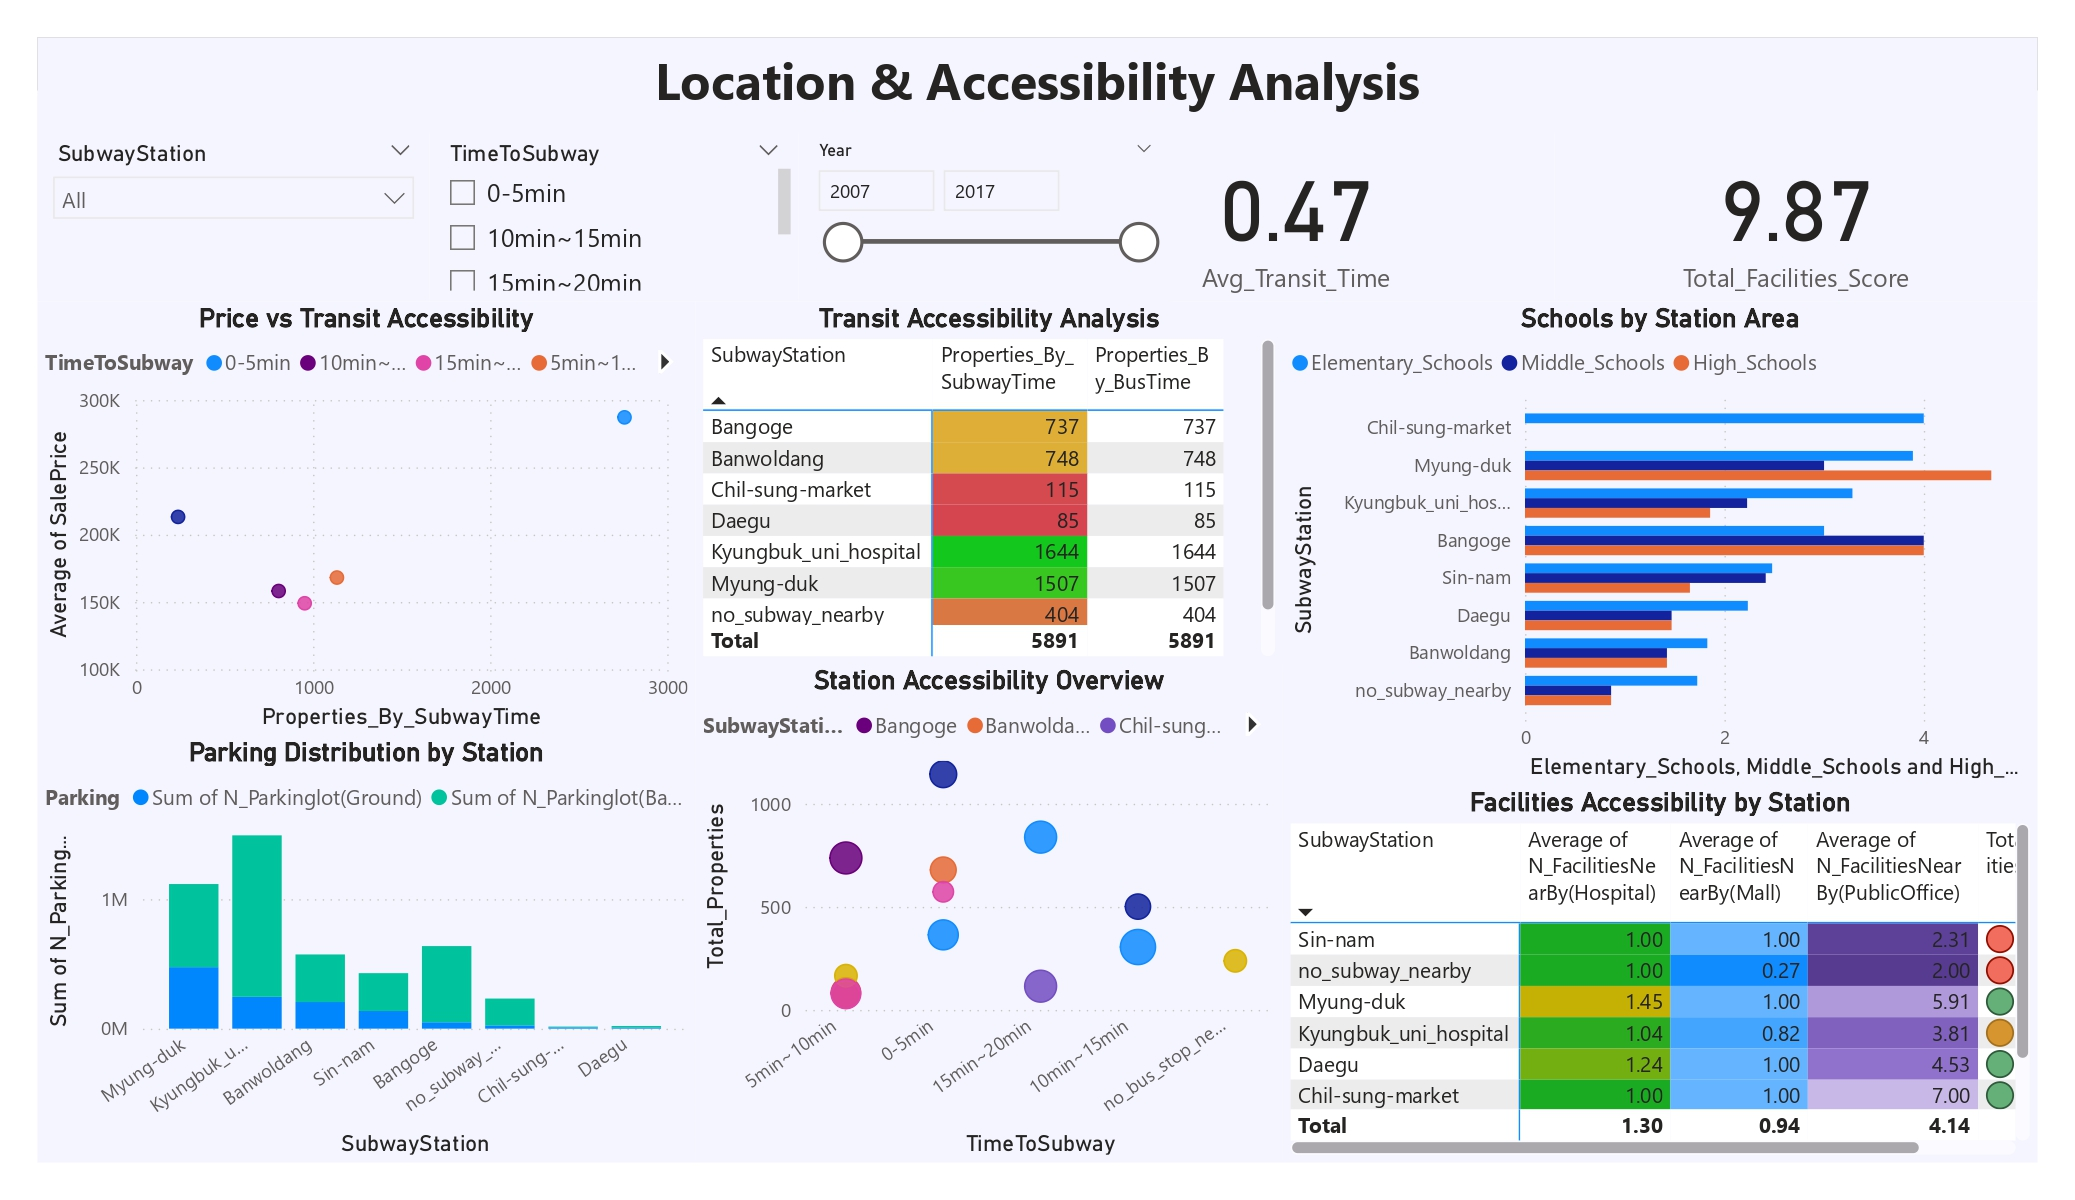

The page's visual inventory and layout, read from the dashboard file:
{"tool":"powerbi","page":{"name":"Location Trends","canvas":[1280,720],"ordinal":1},"visuals":[{"type":"textbox","box":[0,0,1280,61.4],"z":0},{"type":"card","fields":{"Values":["Daegu_Real_Estate_data.Avg_Transit_Time"]},"box":[640,61.4,331.4,107.1],"z":1000},{"type":"card","fields":{"Values":["Daegu_Real_Estate_data.Total_Facilities_Score"]},"box":[971.4,61.4,308.6,107.1],"z":2000},{"type":"pivotTable","title":"Transit Accessibility Analysis","fields":{"Rows":["Daegu_Real_Estate_data.SubwayStation"],"Values":["Daegu_Real_Estate_data.Properties_By_SubwayTime","Daegu_Real_Estate_data.Properties_By_BusTime"]},"box":[421.4,168.6,375.7,232.9],"z":3000},{"type":"clusteredBarChart","title":"Schools by Station Area","fields":{"Category":["Daegu_Real_Estate_data.SubwayStation"],"Y":["Daegu_Real_Estate_data.Elementary_Schools","Daegu_Real_Estate_data.Middle_Schools","Daegu_Real_Estate_data.High_Schools"]},"box":[797.1,168.6,482.9,310],"z":4000},{"type":"columnChart","title":"Parking Distribution by Station","fields":{"Category":["Daegu_Real_Estate_data.SubwayStation"],"Y":["Sum(Daegu_Real_Estate_data.N_Parkinglot(Ground))","Sum(Daegu_Real_Estate_data.N_Parkinglot(Basement))"]},"box":[0,447.1,421.4,272.9],"z":5000},{"type":"pivotTable","title":"Facilities Accessibility by Station","fields":{"Rows":["Daegu_Real_Estate_data.SubwayStation"],"Values":["Avg(Daegu_Real_Estate_data.N_FacilitiesNearBy(Hospital))","Avg(Daegu_Real_Estate_data.N_FacilitiesNearBy(Mall))","Avg(Daegu_Real_Estate_data.N_FacilitiesNearBy(PublicOffice))","Daegu_Real_Estate_data.Total_Facilities_Score"]},"box":[797.1,478.6,482.9,241.4],"z":6000},{"type":"scatterChart","title":"Station Accessibility Overview","fields":{"Y":["Daegu_Real_Estate_data.Total_Properties"],"Size":["Daegu_Real_Estate_data.Total_Facilities_Score"],"Series":["Daegu_Real_Estate_data.SubwayStation"],"X":["Daegu_Real_Estate_data.TimeToSubway"]},"box":[421.4,401.4,375.7,318.6],"z":7000},{"type":"scatterChart","title":"Price vs Transit Accessibility","fields":{"X":["Daegu_Real_Estate_data.Properties_By_SubwayTime"],"Y":["Avg(Daegu_Real_Estate_data.SalePrice)"],"Series":["Daegu_Real_Estate_data.TimeToSubway"]},"box":[0,168.6,421.4,278.6],"z":8000},{"type":"slicer","fields":{"Values":["Daegu_Real_Estate_data.SubwayStation"]},"box":[0,61.4,251.4,107.1],"z":9000},{"type":"slicer","fields":{"Values":["Daegu_Real_Estate_data.TimeToSubway"]},"box":[251.4,61.4,235.7,107.1],"z":9001},{"type":"slicer","fields":{"Values":["Daegu_Real_Estate_data.YrSold"]},"box":[487.1,61.4,238.6,107.1],"z":9002}]}

Visuals, with their boxes in screenshot pixels (x1, y1, x2, y2):
textbox: <bbox>38, 38, 2038, 133</bbox>
card - Daegu_Real_Estate_data.Avg_Transit_Time: <bbox>1038, 133, 1555, 301</bbox>
card - Daegu_Real_Estate_data.Total_Facilities_Score: <bbox>1555, 133, 2038, 301</bbox>
"Transit Accessibility Analysis" pivotTable: <bbox>696, 301, 1283, 665</bbox>
"Schools by Station Area" clusteredBarChart: <bbox>1283, 301, 2038, 785</bbox>
"Parking Distribution by Station" columnChart: <bbox>38, 736, 696, 1162</bbox>
"Facilities Accessibility by Station" pivotTable: <bbox>1283, 785, 2038, 1162</bbox>
"Station Accessibility Overview" scatterChart: <bbox>696, 665, 1283, 1162</bbox>
"Price vs Transit Accessibility" scatterChart: <bbox>38, 301, 696, 736</bbox>
slicer - Daegu_Real_Estate_data.SubwayStation: <bbox>38, 133, 430, 301</bbox>
slicer - Daegu_Real_Estate_data.TimeToSubway: <bbox>430, 133, 799, 301</bbox>
slicer - Daegu_Real_Estate_data.YrSold: <bbox>799, 133, 1171, 301</bbox>
